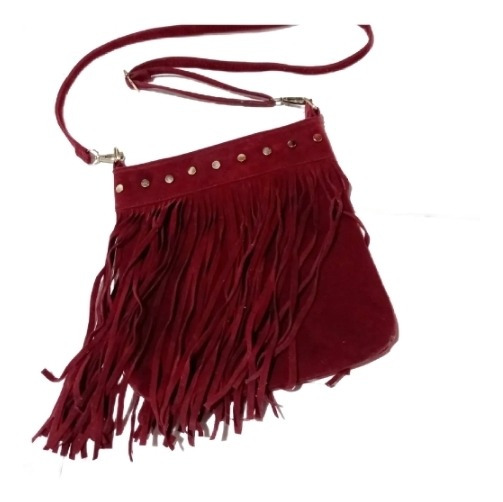cartera: (31, 99, 400, 466)
